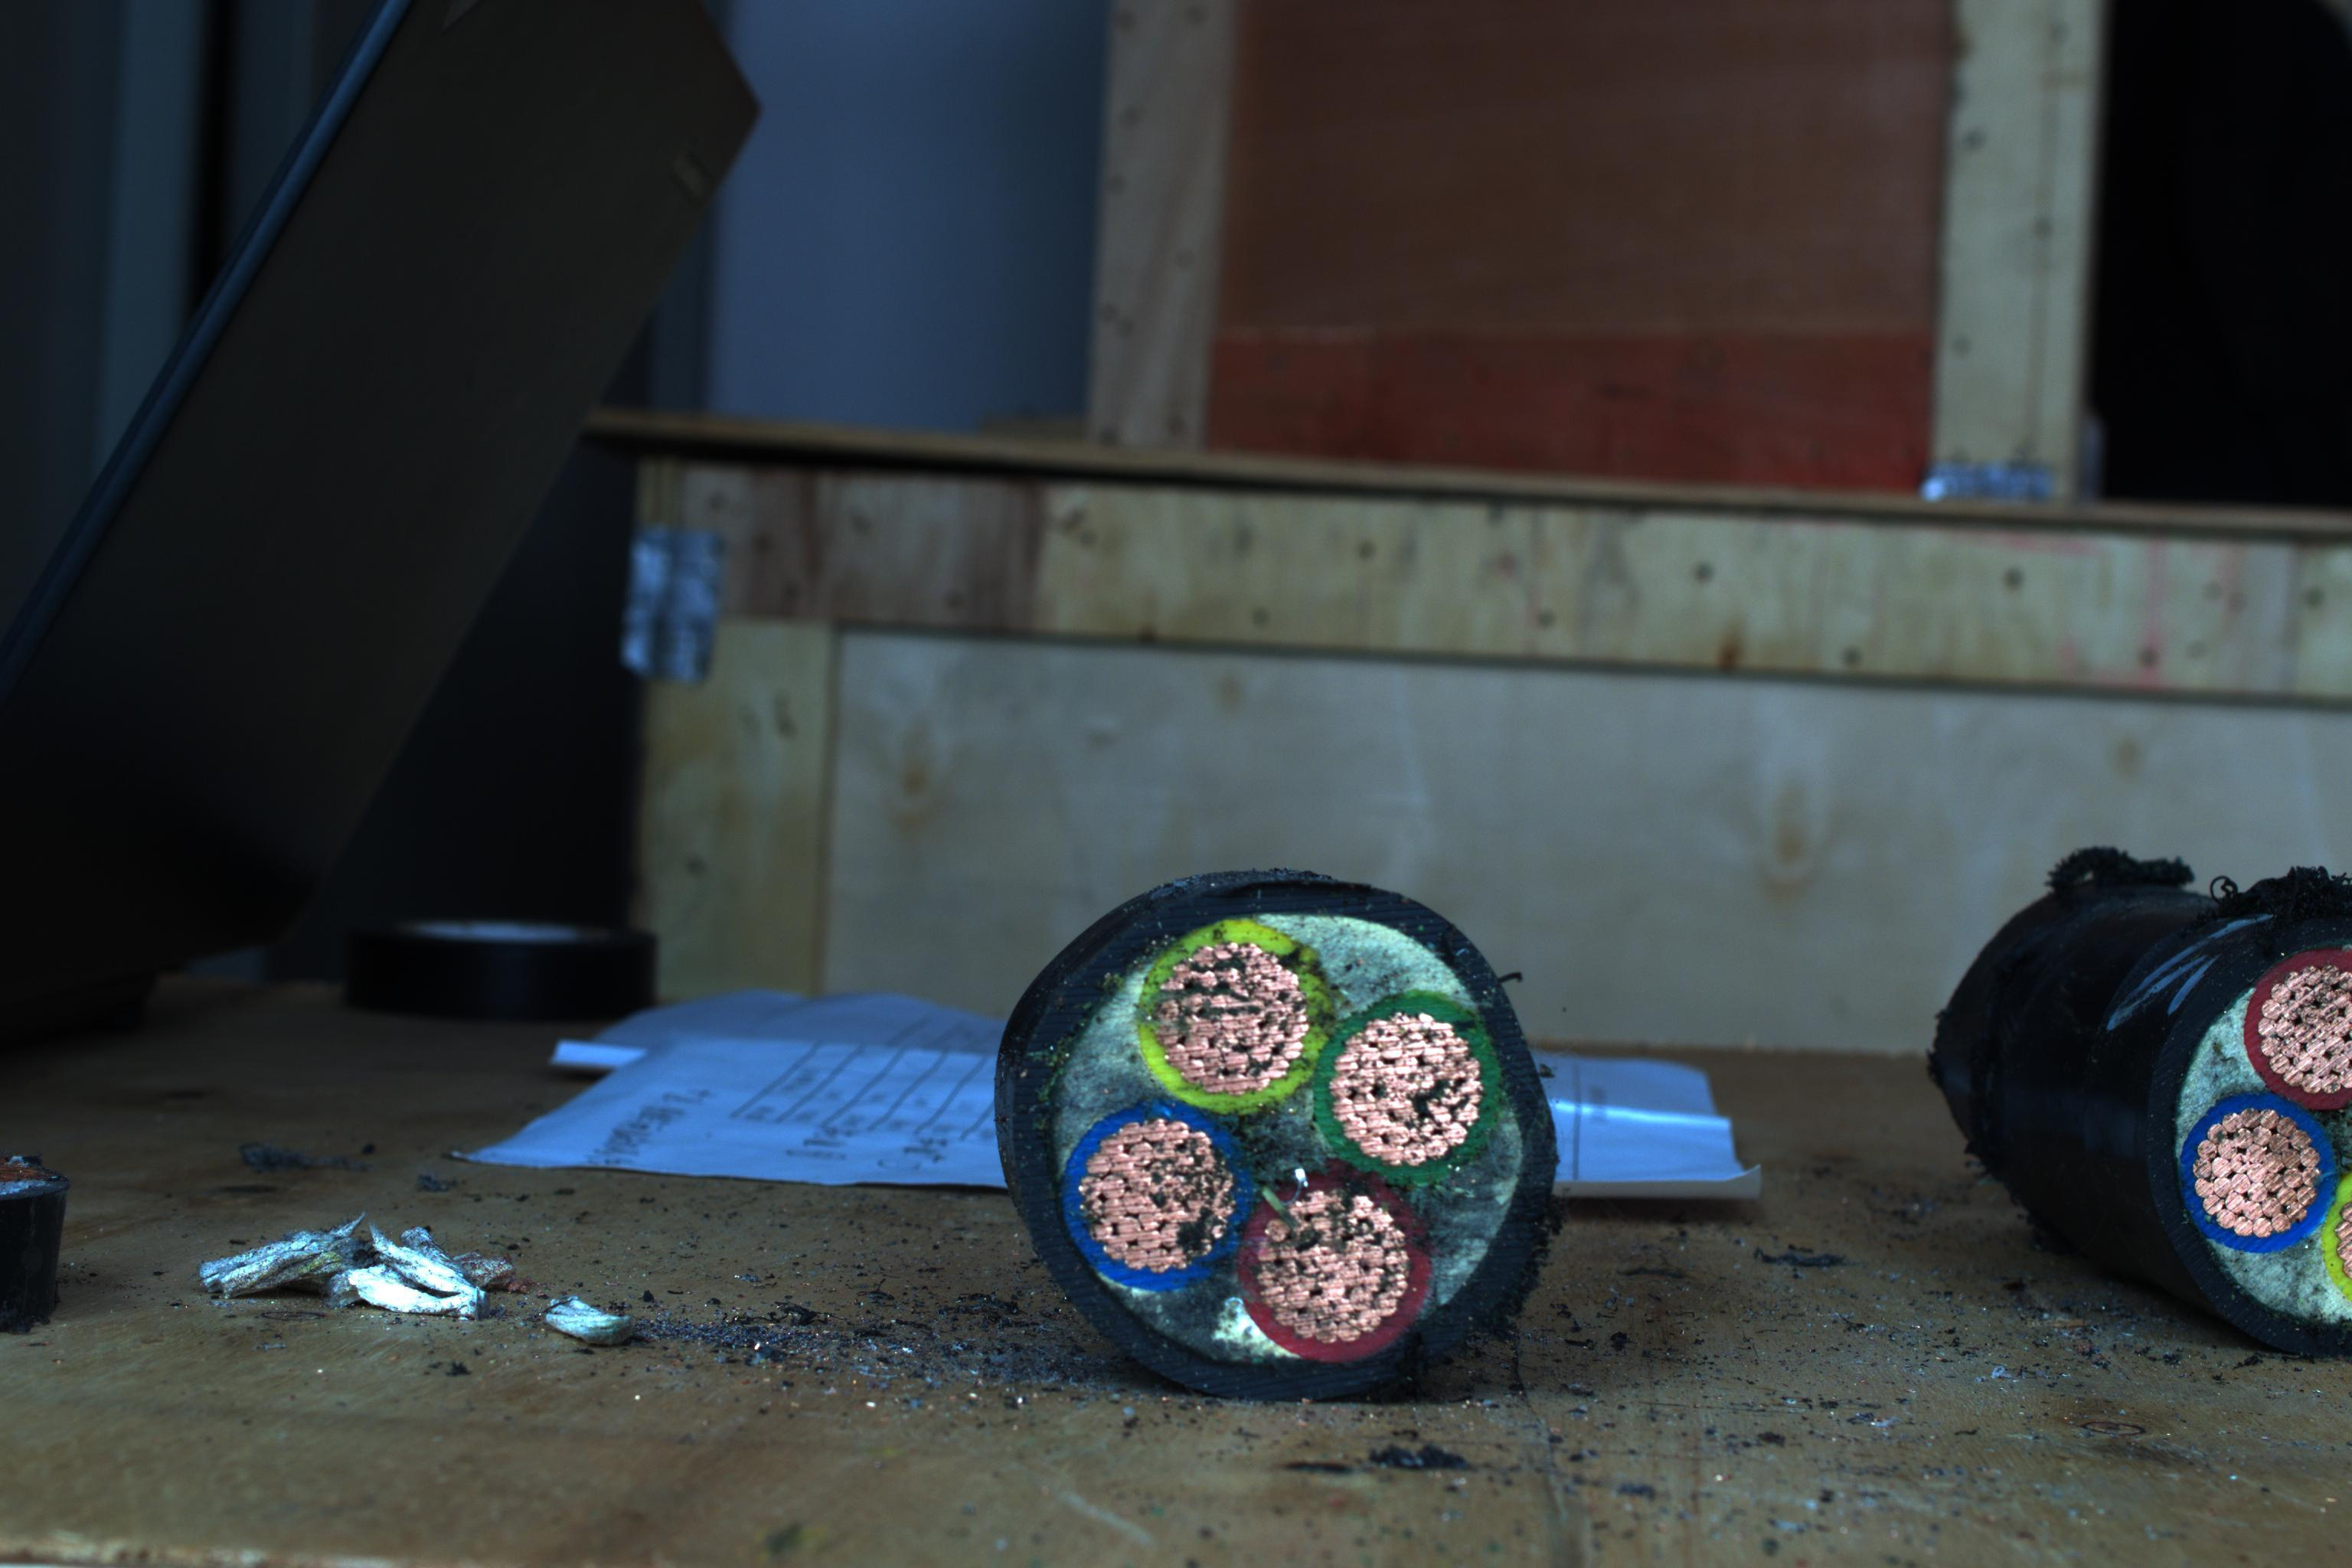YJV_0.6_1kV_4x185: (1020, 866, 1552, 1370)
